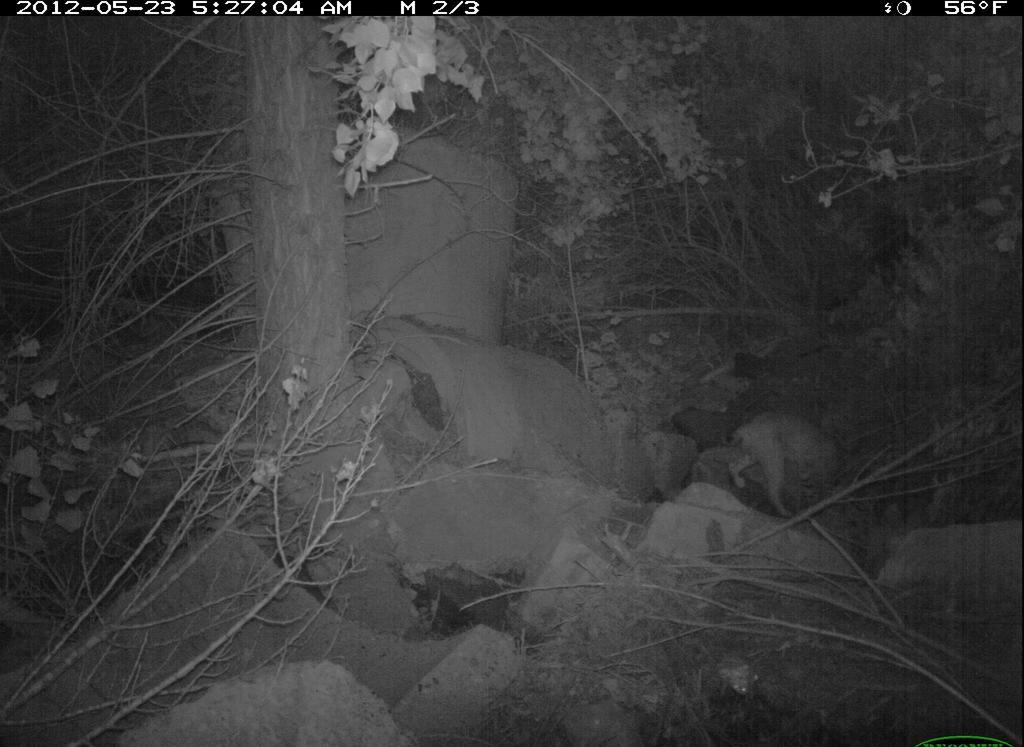bobcat: (698, 395, 873, 518)
